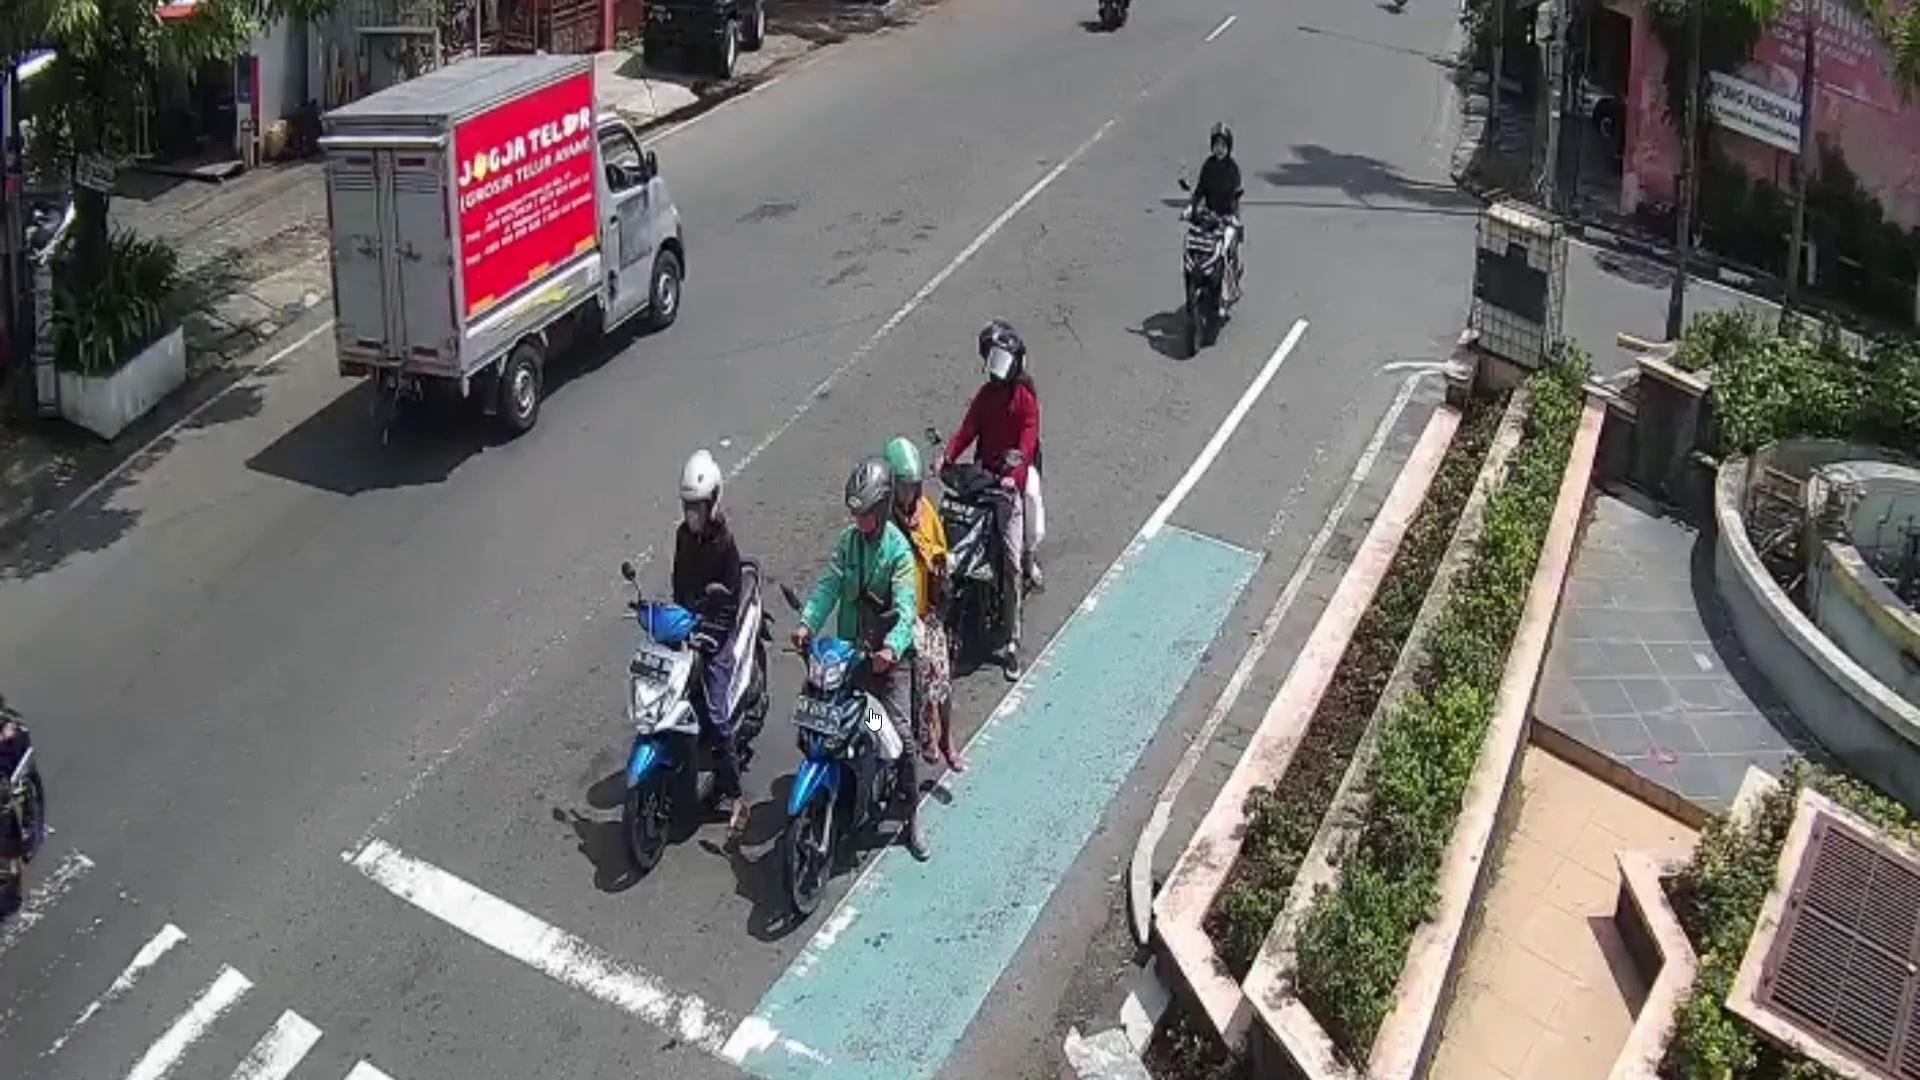motorbike: (777, 580, 951, 923), (615, 558, 777, 877), (924, 423, 1042, 705), (1183, 200, 1245, 355)
truck: (299, 50, 692, 434)
